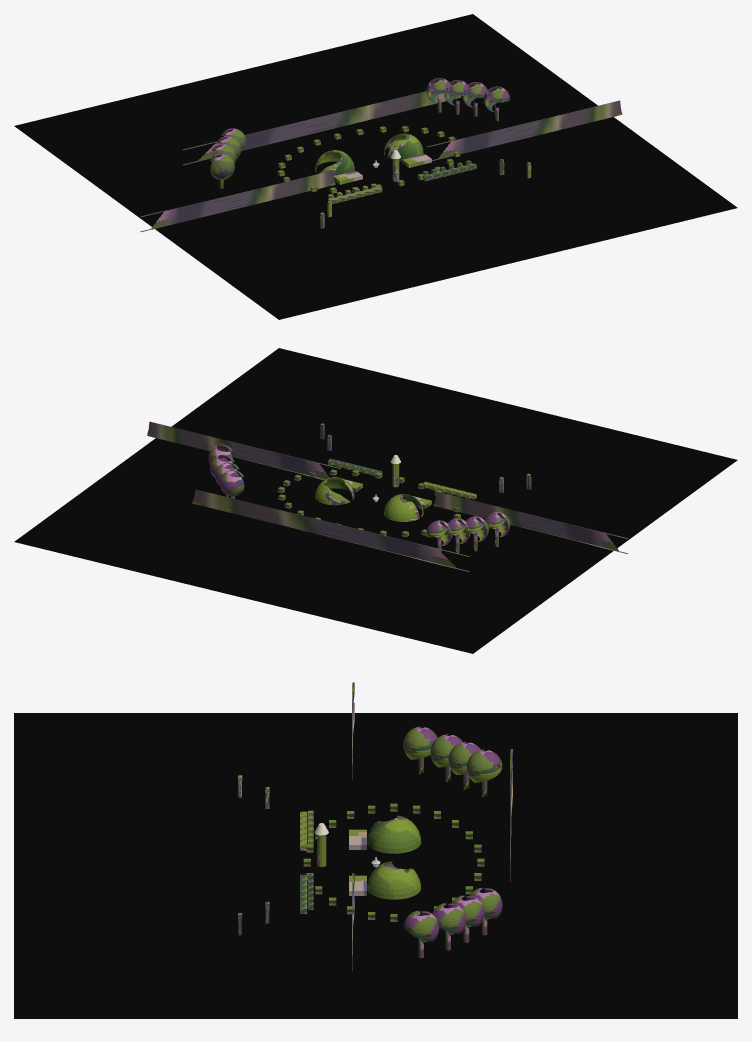
The model's file is royal_tomb_export.fbx.
The picture shows the model from 3 angles, top to bottom: view 1: azimuth 30°, elevation 25°; view 2: azimuth 150°, elevation 25°; view 3: azimuth 270°, elevation 25°; orthographic projection. The views are drawn at different scales.
Visible parts, largest first — view 1: Central_Pillar_import, Fence_Back, Fence_Left, Fence_Right, Royal_Tomb_Right, Royal_Tomb_Left, Tree_Left_4_Foliage; view 2: Central_Pillar_import, Fence_Back, Fence_Left, Fence_Right, Royal_Tomb_Left, Royal_Tomb_Right, Tree_Right_3_Foliage; view 3: Central_Pillar_import, Royal_Tomb_Left, Royal_Tomb_Right, Tree_Left_3_Foliage, Tree_Left_4_Foliage, Tree_Right_4_Foliage, Tree_Right_2_Foliage, Tree_Left_2_Foliage, Tree_Left_1_Foliage, Tree_Right_3_Foliage, Tree_Right_1_Foliage.
Boxes of the visible parts, bbox=[...] form: Central_Pillar_import: bbox=[14, 14, 737, 319]; Fence_Back: bbox=[183, 91, 461, 165]; Fence_Left: bbox=[140, 170, 335, 232]; Fence_Right: bbox=[427, 100, 622, 161]; Royal_Tomb_Right: bbox=[384, 133, 423, 161]; Royal_Tomb_Left: bbox=[315, 150, 354, 175]; Tree_Left_4_Foliage: bbox=[210, 153, 234, 179]; Central_Pillar_import: bbox=[14, 348, 737, 653]; Fence_Back: bbox=[192, 489, 469, 571]; Fence_Left: bbox=[434, 491, 628, 553]; Fence_Right: bbox=[147, 421, 341, 479]; Royal_Tomb_Left: bbox=[384, 493, 423, 521]; Royal_Tomb_Right: bbox=[315, 477, 354, 505]; Tree_Right_3_Foliage: bbox=[219, 470, 244, 496]; Central_Pillar_import: bbox=[14, 713, 737, 1018]; Royal_Tomb_Left: bbox=[367, 815, 421, 853]; Royal_Tomb_Right: bbox=[367, 861, 421, 899]; Tree_Left_3_Foliage: bbox=[466, 749, 502, 782]; Tree_Left_4_Foliage: bbox=[403, 726, 437, 759]; Tree_Right_4_Foliage: bbox=[403, 910, 439, 942]; Tree_Right_2_Foliage: bbox=[432, 903, 466, 934]; Tree_Left_2_Foliage: bbox=[430, 734, 462, 767]; Tree_Left_1_Foliage: bbox=[448, 742, 480, 774]; Tree_Right_3_Foliage: bbox=[468, 888, 502, 919]; Tree_Right_1_Foliage: bbox=[450, 895, 484, 926].
Size of the model in its own units: 8500 by 650 by 8000.
